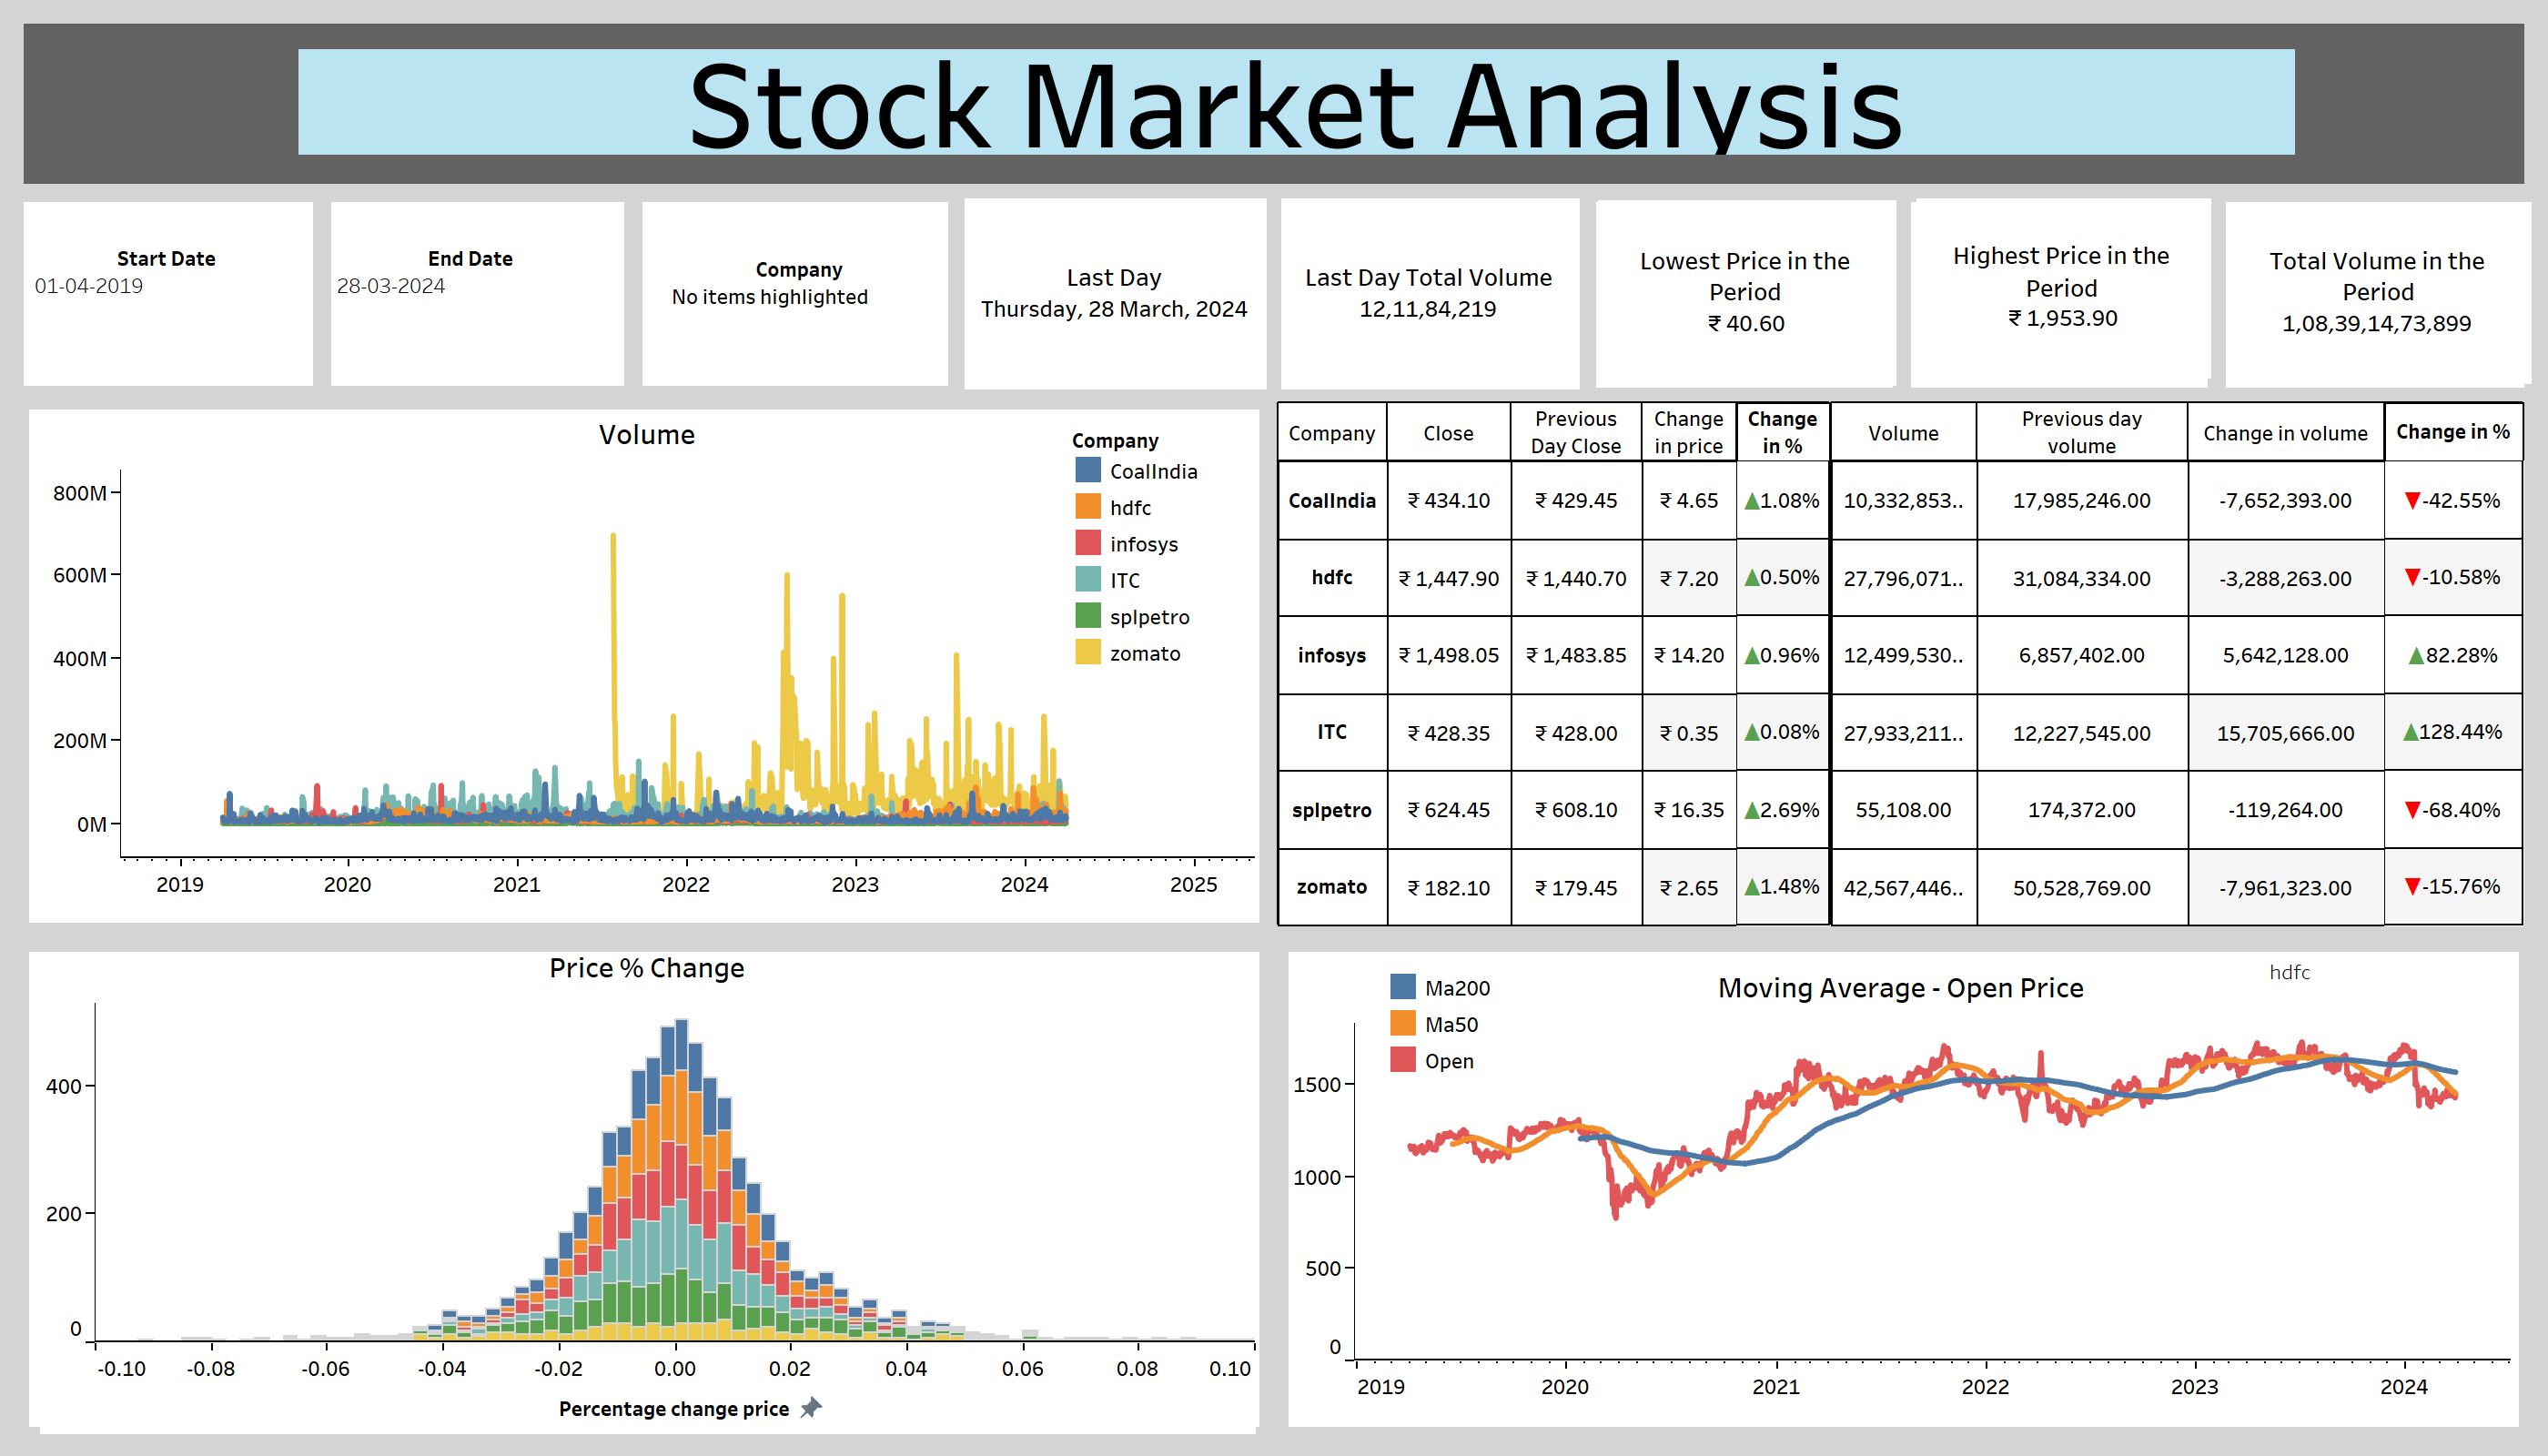

This screenshot's page, from the dashboard's own definition file:
{"tool":"tableau","page":{"name":"Dashboard 1","canvas":[1400,800],"ordinal":0},"visuals":[{"type":"blank","box":[8,8,1384,97.7]},{"type":"worksheet","title":"Title","mark":"Automatic","box":[164.2,27.4,1097.3,57.9]},{"type":"blank","box":[8,105.7,169.1,111.6]},{"type":"blank","box":[177.1,105.7,170.9,111.6]},{"type":"blank","box":[348,105.7,178.3,111.6]},{"type":"blank","box":[526.3,105.7,173.2,111.6]},{"type":"blank","box":[699.5,105.7,172.9,112.3]},{"type":"blank","box":[872.4,105.7,173,112.3]},{"type":"blank","box":[1045.4,105.7,173,112.3]},{"type":"blank","box":[1218.3,105.7,173.7,112.3]},{"type":"worksheet","title":"Last Day","mark":"Automatic","box":[529.7,109,165,104.4]},{"type":"worksheet","title":"Last Day Total Volume","mark":"Automatic","box":[703.8,109,163.5,104.4]},{"type":"worksheet","title":"Highest Price in Period","mark":"Automatic","box":[1052.6,109,161.2,98.3]},{"type":"worksheet","title":"Lowest Price in Period","mark":"Automatic","box":[877.8,109.7,162.7,101.3]},{"type":"worksheet","title":"Total Volume in Period","mark":"Automatic","box":[1223.7,111.2,165.7,99]},{"type":"parameter","param":"[Parameters].[Parameter 1]","box":[17.4,132.6,149.1,51]},{"type":"parameter","param":"[Parameters].[Parameter 2]","box":[183.1,133.3,150.6,60.2]},{"type":"highlighter","title":"Volume","param":"[federated.1jlagzo0lmtitr1bwxgkq1p4u8og].[none:Table Name:nk]","box":[367,139.4,142.3,53.3]},{"type":"blank","box":[8,217.3,691.5,297.3]},{"type":"blank","box":[699.5,218,692.5,296.6]},{"type":"worksheet","title":"Detailed Price Table","mark":"Automatic","rows":["Table Name","Close","previous_day_close","Change_in_price"],"box":[702.3,221,304.2,288]},{"type":"worksheet","title":"Detailed Volume Table","mark":"Automatic","rows":["Table Name","Volume","Previous_day_volume","Change_in_volume"],"box":[1005.7,221,380.6,288]},{"type":"worksheet","title":"Volume","mark":"Automatic","rows":["Volume"],"cols":["Date"],"box":[22.3,221.8,666.6,279.5]},{"type":"legend","title":"Volume","param":"[federated.1jlagzo0lmtitr1bwxgkq1p4u8og].[none:Table Name:nk]","box":[588,232,146.7,201.3]},{"type":"blank","box":[8,514.6,691.5,277.4]},{"type":"blank","box":[699.5,514.6,692.5,277.4]},{"type":"worksheet","title":"Price % Change","mark":"Automatic","rows":["Percentage_change_price"],"cols":["Percentage change price (bin)"],"box":[22.3,515.4,666.6,273.1]},{"type":"worksheet","title":"Moving Average - Open Price","mark":"Automatic","cols":["Date"],"box":[710.4,526.3,668.9,251.2]},{"type":"filter","title":"Moving Average - Open Price","param":"[federated.1jlagzo0lmtitr1bwxgkq1p4u8og].[none:Table Name:nk]","box":[1244.9,526.5,133.2,23.6]},{"type":"legend","title":"Moving Average - Open Price","param":"[federated.1jlagzo0lmtitr1bwxgkq1p4u8og].[:Measure Names]","box":[760.9,531.9,178.9,67.4]}]}

Visuals, with their boxes in screenshot pixels (x1, y1, x2, y2), scaled from the page's 1400x800 canvas onto the 2548x1456 screenshot:
blank: locate(15, 15, 2533, 192)
"Title" worksheet: locate(298, 50, 2296, 156)
blank: locate(15, 192, 322, 396)
blank: locate(322, 192, 633, 396)
blank: locate(633, 192, 958, 396)
blank: locate(958, 192, 1273, 396)
blank: locate(1273, 192, 1588, 397)
blank: locate(1588, 192, 1903, 397)
blank: locate(1903, 192, 2218, 397)
blank: locate(2218, 192, 2533, 397)
"Last Day" worksheet: locate(964, 198, 1264, 389)
"Last Day Total Volume" worksheet: locate(1281, 198, 1579, 389)
"Highest Price in Period" worksheet: locate(1916, 198, 2209, 378)
"Lowest Price in Period" worksheet: locate(1598, 199, 1894, 384)
"Total Volume in Period" worksheet: locate(2227, 202, 2529, 382)
parameter: locate(32, 241, 303, 334)
parameter: locate(333, 243, 607, 352)
"Volume" highlighter: locate(668, 254, 927, 350)
blank: locate(15, 396, 1273, 936)
blank: locate(1273, 397, 2533, 936)
"Detailed Price Table" worksheet: locate(1279, 402, 1832, 926)
"Detailed Volume Table" worksheet: locate(1830, 402, 2523, 926)
"Volume" worksheet: locate(41, 404, 1254, 913)
"Volume" legend: locate(1070, 422, 1337, 789)
blank: locate(15, 936, 1273, 1441)
blank: locate(1273, 936, 2533, 1441)
"Price % Change" worksheet: locate(41, 938, 1254, 1435)
"Moving Average - Open Price" worksheet: locate(1293, 958, 2511, 1415)
"Moving Average - Open Price" filter: locate(2266, 958, 2508, 1001)
"Moving Average - Open Price" legend: locate(1385, 968, 1711, 1091)
